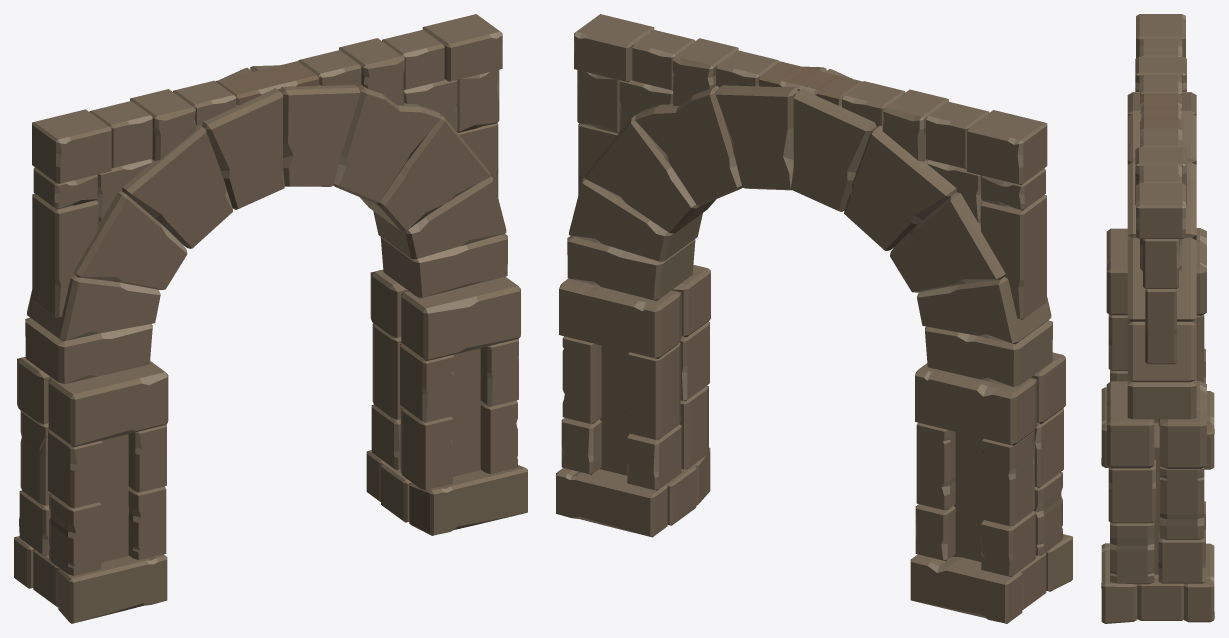
Rendered from Dungeon_Arch.glb.
3 views of the same model, side by side, from view 1: azimuth 30°, elevation 25°; view 2: azimuth 150°, elevation 25°; view 3: azimuth 270°, elevation 25° (orthographic). The views are drawn at different scales.
Visible parts, largest first — view 1: Arch; view 2: Arch; view 3: Arch.
Part boxes in pixels (x1,y1,x2,y2): Arch: (14, 14, 527, 623); Arch: (556, 14, 1072, 623); Arch: (1101, 14, 1214, 623).
Size of the model in its own units: 4.1 by 4.01 by 0.9926.
